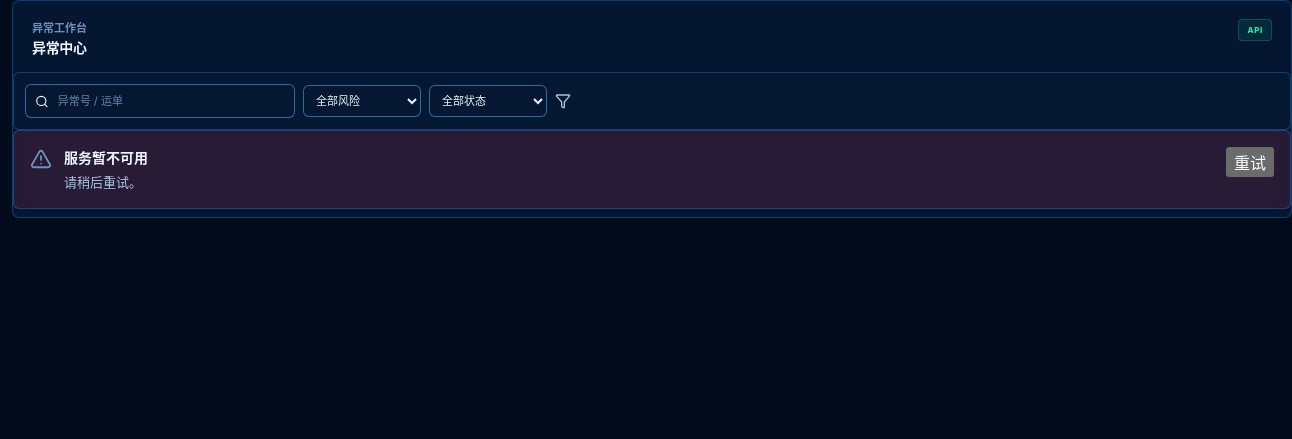
business pages API data truth › shows unavailable state and retries the anomaly read
Click the button "重试": (1250, 162) left=1226, top=147, right=1274, bottom=177
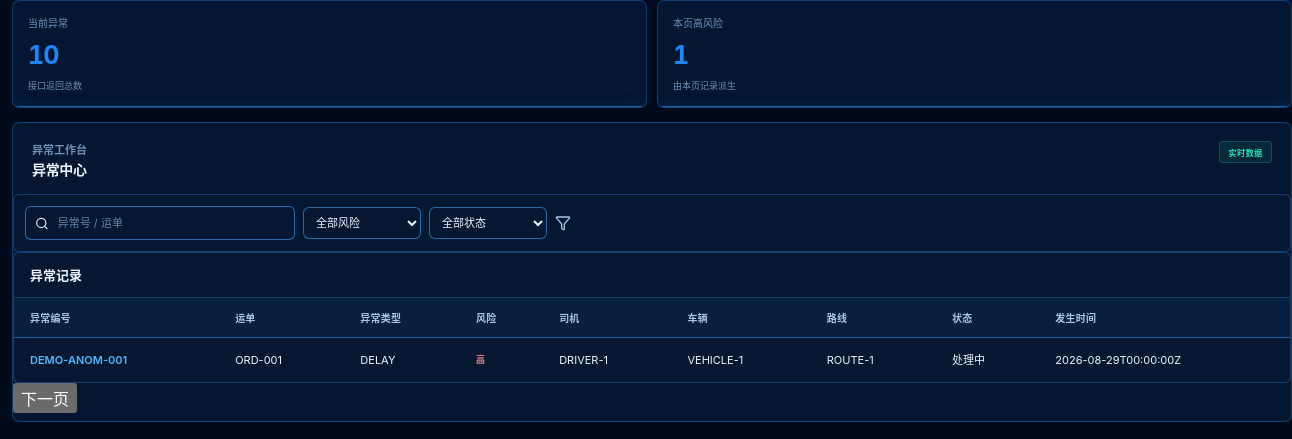
Expected: the text "DEMO-ANOM-001" is shown, left=30, top=350, right=127, bottom=370
